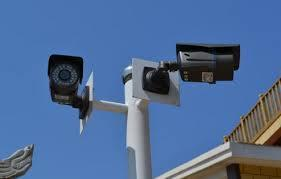tutu: (175, 44, 245, 80), (49, 53, 87, 111)
